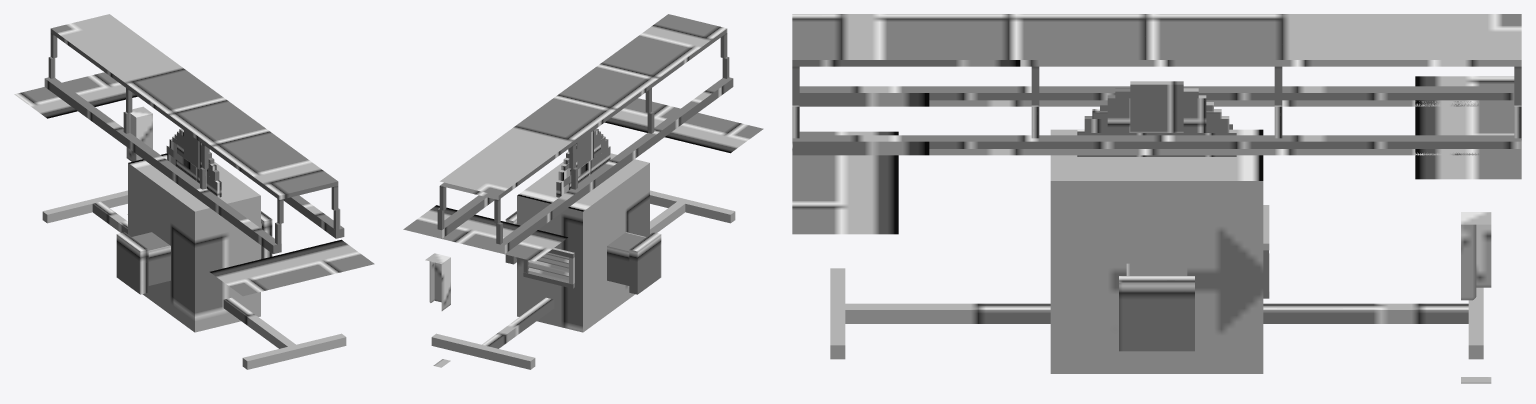
Rendered from sawmill.obj.
3 renders of one model, left to right at view 1: azimuth 30°, elevation 25°; view 2: azimuth 150°, elevation 25°; view 3: azimuth 270°, elevation 25°, orthographic. The views are drawn at different scales.
Visible parts, largest first — view 1: tableTop, table1, table, tableEastSide, table2, eastPipe, table8, eastPipe1, table5, table3, tableWestSide, saw (+2 smaller); view 2: tableTop, table1, table, tableEastSide, table2, eastPipe, table5, table3, eastPipe1, table8, tableWestSide, saw (+2 smaller); view 3: table1, tableTop, table, tableWestSide, tableEastSide, table2, westPipe, saw6, table3, saw5, table8, table5 (+3 smaller).
Part boxes in pixels (x1,y1,x2,y2): tableTop: (50,14,338,199); table1: (128,153,260,332); table: (14,72,374,296); tableEastSide: (44,77,281,253); table2: (92,201,295,348); eastPipe: (116,232,148,294); table8: (242,333,346,369); eastPipe1: (132,232,170,285); table5: (42,190,127,223); table3: (126,106,152,214); tableWestSide: (283,195,344,238); saw: (167,146,221,197); tableTop: (440,14,727,199); table1: (517,153,649,332); table: (403,98,763,261); tableEastSide: (501,77,733,253); table2: (482,201,685,348); eastPipe: (629,232,661,294); table5: (431,333,535,369); table3: (425,253,450,367); eastPipe1: (607,232,645,285); table8: (650,190,735,223); tableWestSide: (434,195,494,238); saw: (556,146,610,197); table1: (1050,129,1263,373); tableTop: (792,14,1521,66); table: (792,76,1521,234); tableWestSide: (792,135,1521,155); tableEastSide: (799,86,1514,106); table2: (845,303,1468,323); westPipe: (1119,276,1194,351); saw6: (1130,81,1183,132); table3: (1461,212,1491,383); saw5: (1107,95,1206,132); table8: (830,268,845,359); table5: (1468,287,1483,359).
Bounding box in the file's own units: 1 × 1.41 × 3.
